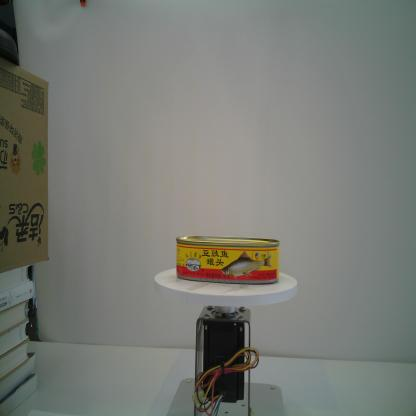Canned Food: (176, 235, 281, 284)
